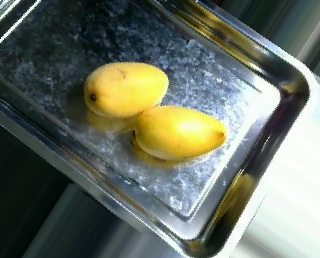Mango: (83, 61, 167, 118), (134, 108, 226, 160)
